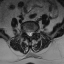CCS_normal: (29, 30, 31, 38)
LFS_severe_stenosis: (33, 28, 35, 34)
LLS_normal: (31, 30, 33, 37)
RFS_normal: (25, 28, 27, 36)
RLS_normal: (27, 30, 29, 37)
